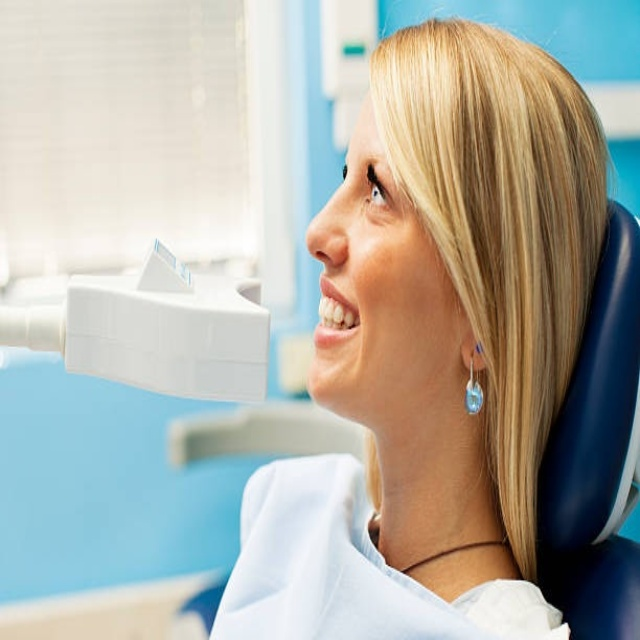Sin_gafas: (336, 143, 397, 240)
Sin_mascara: (305, 265, 366, 402)
